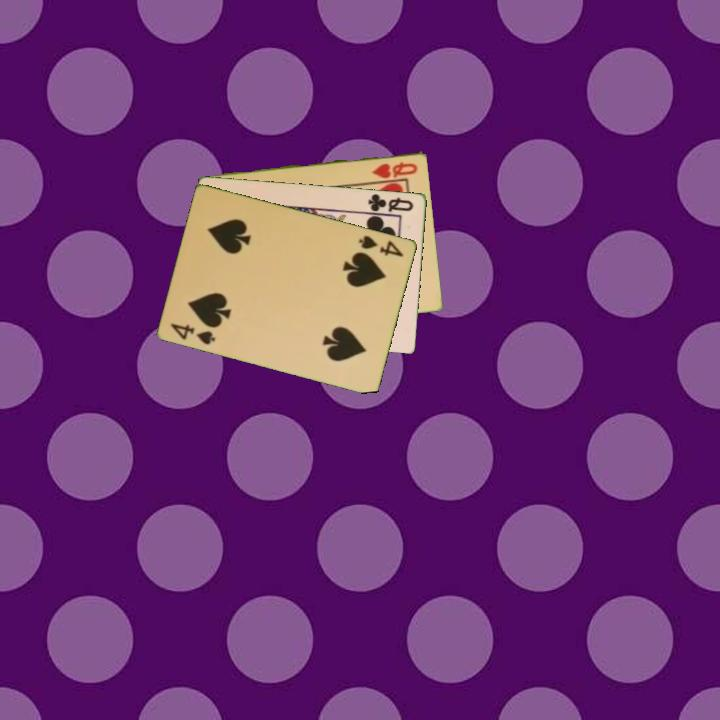4s: (355, 232, 407, 260), (167, 320, 219, 347)
Qc: (365, 190, 416, 215)
Qh: (368, 158, 421, 181)
